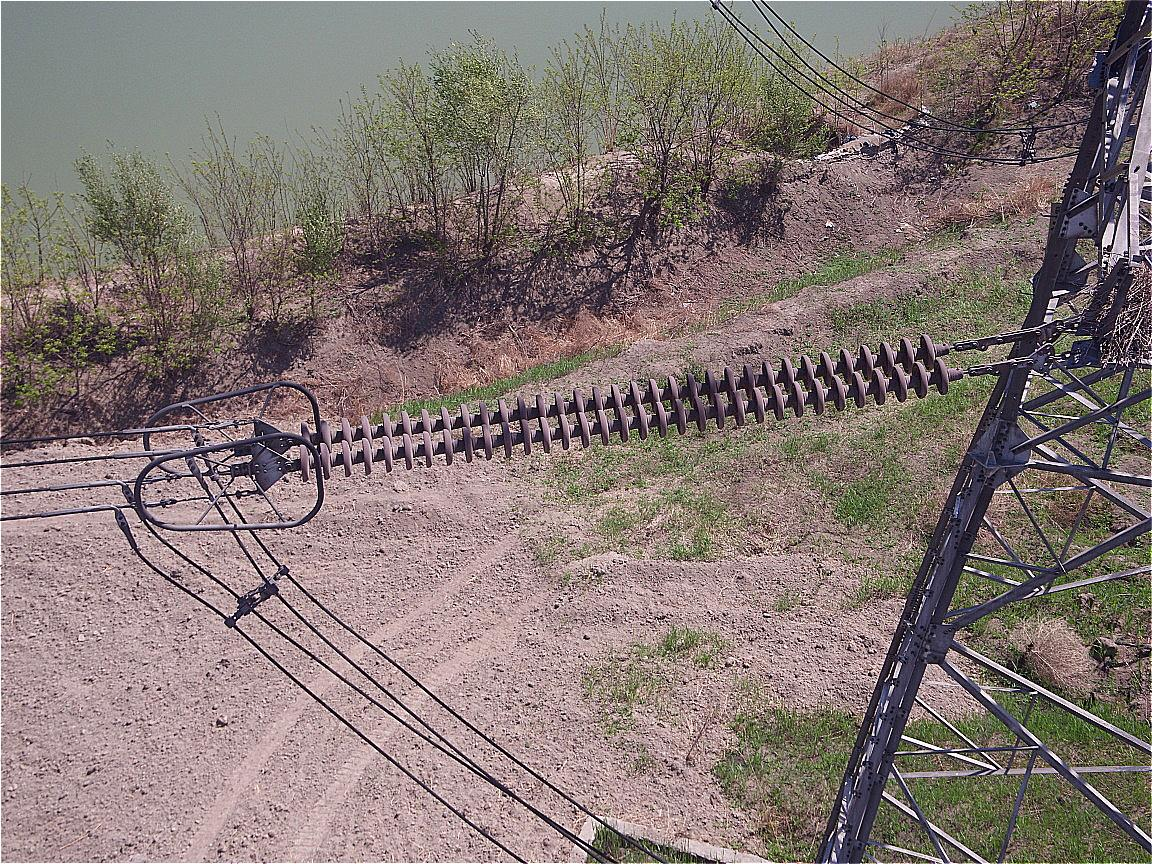insultor1: (300, 334, 949, 484)
